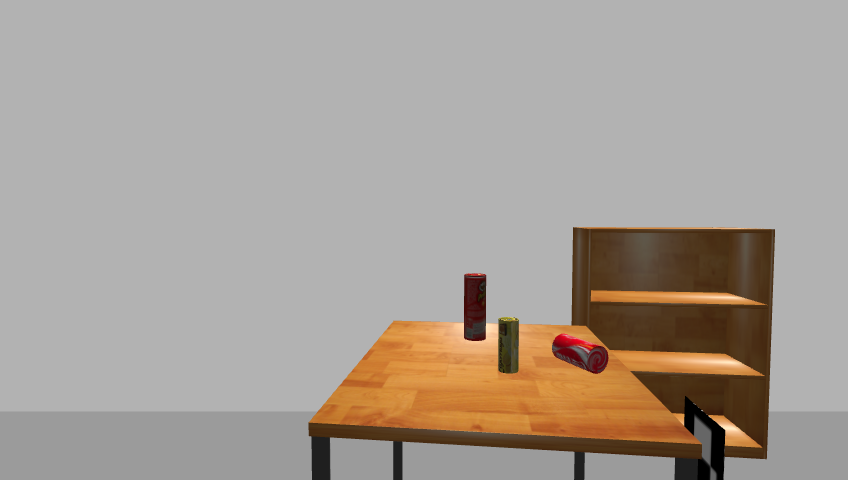aruco marker: (679, 397, 730, 480)
biscuits pack: (497, 317, 520, 375)
bookshelf: (567, 224, 782, 468)
coke can: (550, 333, 611, 374)
dinner table: (303, 319, 703, 480)
pringles can: (461, 272, 488, 343)
